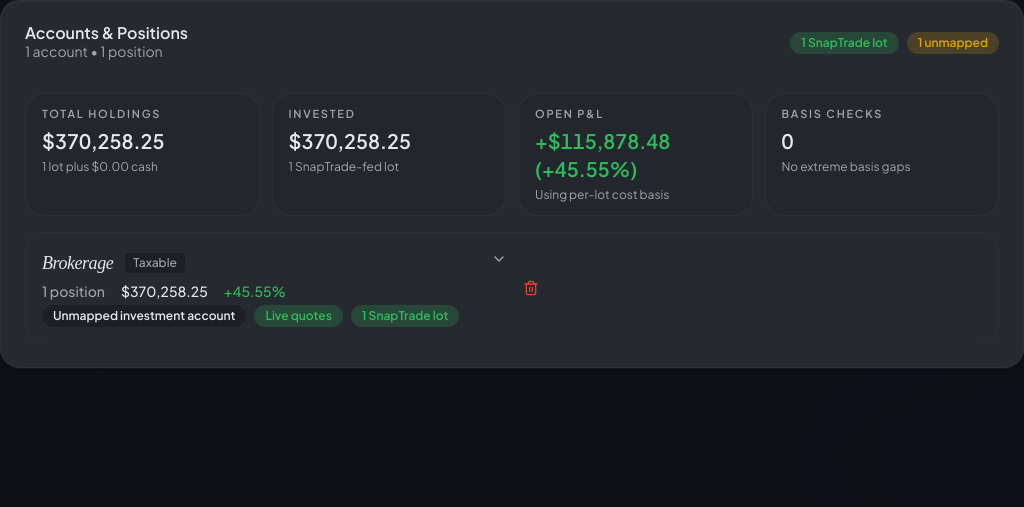
AccountsWithPositions › surfaces SnapTrade lot metadata and sortable holdings columns
Expected: the text "1 SnapTrade lot" in the row of "Accounts & Positions" is shown, [801, 35, 888, 50]
Expected: the text "Total holdings" is shown, [42, 107, 161, 120]
Click the button named "BrokerageTaxable". click: [275, 288]
box: [42, 232, 507, 342]
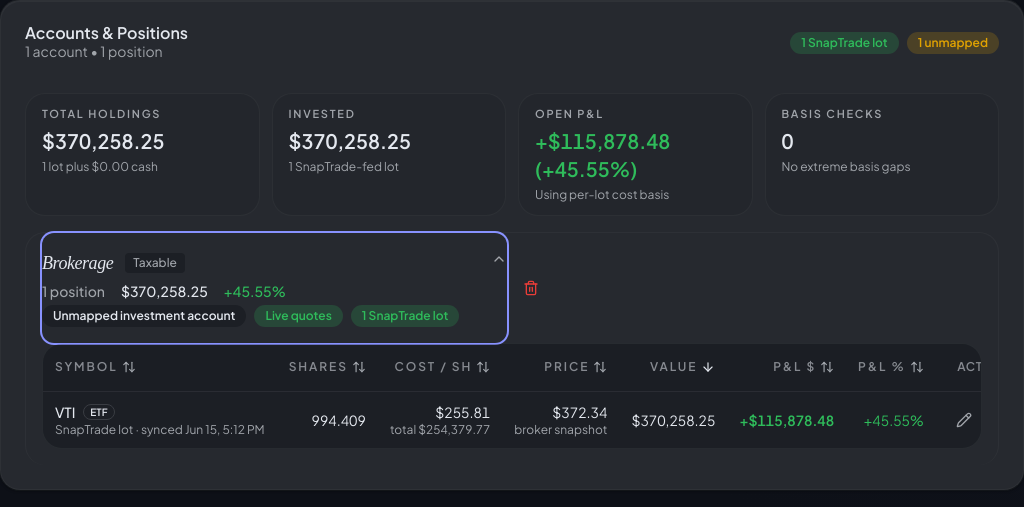
Expected: the button with aria-label "Sort by Symbol" is shown, [55, 359, 265, 375]
Expected: the button with aria-label "Sort by Cost / sh" is shown, [390, 359, 490, 375]
Expected: the text "ETF" is shown, [83, 404, 114, 420]
